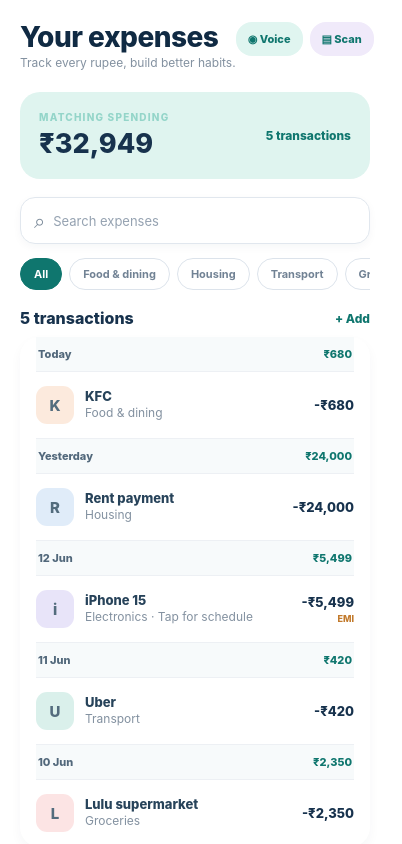
budget screens › filters expenses, applies category chips, selects, and opens the add action
Later steps or results of the test are not shown.
In the field with placeholder "Search expenses": coordinates (201, 220) [45,198,356,243], type "KFC"
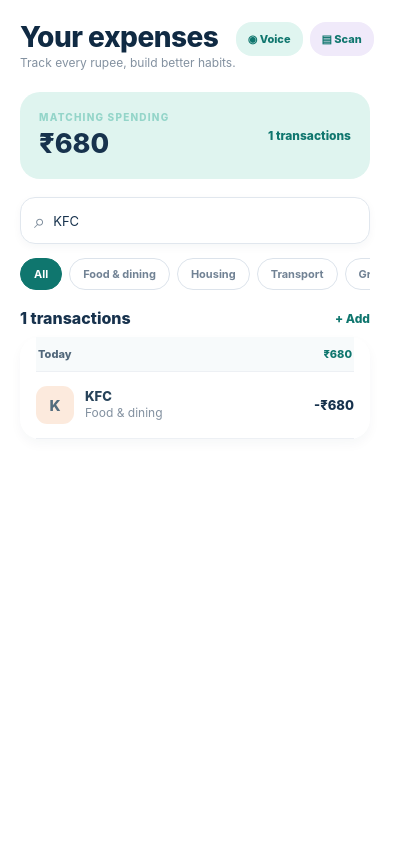
expect the text "KFC" is shown: met, box [85,388,112,404]
expect the text "Rent payment" is gone: met
Click the text "All": coordinates (41, 274) [34,267,48,281]
Clear the field with placeholder "Search expenses": coordinates (201, 220) [45,198,356,243]
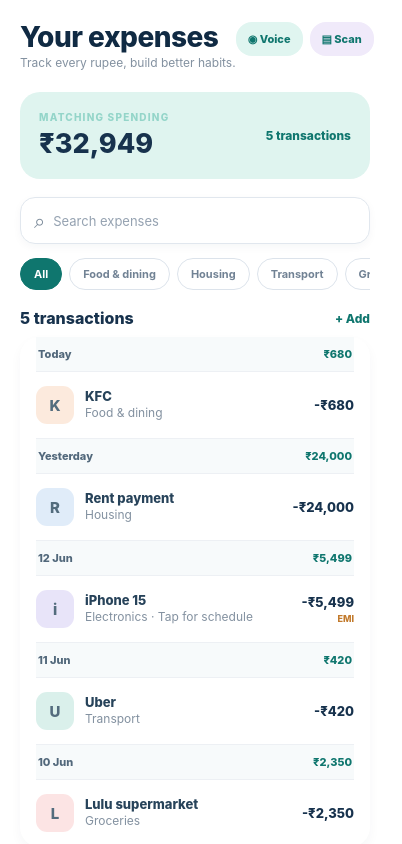
Click the text "Food & dining" next to "All": coordinates (120, 274) [83,267,156,281]
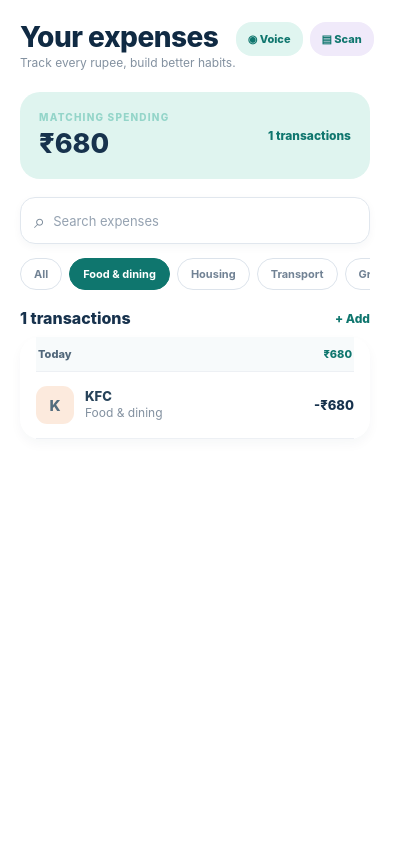
expect the text "KFC" is shown: met, box [85,388,112,404]
expect the text "Uber" is gone: met
